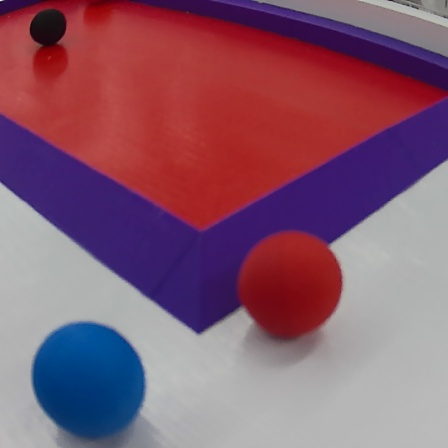black: (32, 4, 66, 50)
blue: (30, 319, 149, 438)
red: (234, 232, 345, 342)
red_aim: (0, 0, 446, 337)
